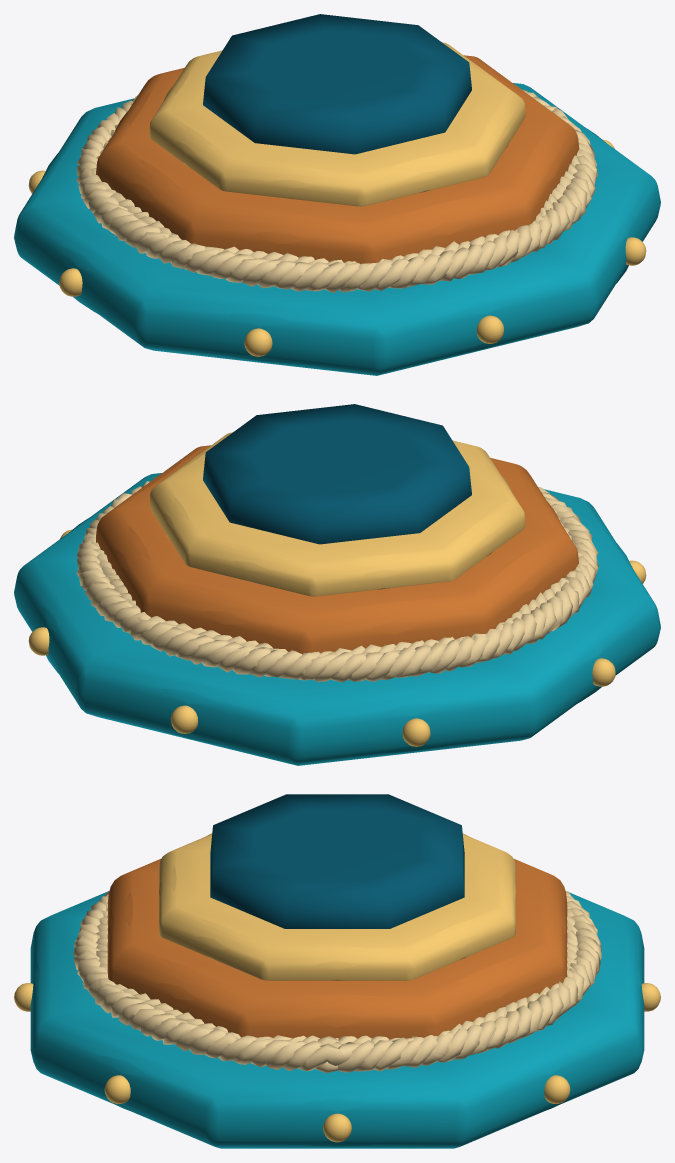
Rendered from ayak2.glb.
The picture shows the model from 3 angles, top to bottom: view 1: azimuth 30°, elevation 25°; view 2: azimuth 150°, elevation 25°; view 3: azimuth 270°, elevation 25°; orthographic projection.
Visible parts, largest first — view 1: kaide.001, basamak.001, boyun.001, altin_basamak.001, taban_halat0, taban_halat2, taban_halat1, boyun, basamak, altin_basamak, kaide, taban_halat1.001 (+5 smaller); view 2: kaide.001, basamak.001, boyun.001, altin_basamak.001, taban_halat0, taban_halat2, taban_halat1, boyun, basamak, altin_basamak, kaide, taban_halat1.001 (+5 smaller); view 3: kaide.001, basamak.001, boyun.001, altin_basamak.001, taban_halat0, taban_halat2, taban_halat1, basamak, altin_basamak, kaide, boyun, taban_halat0.001 (+5 smaller).
Boxes of the visible parts, x1,y1,x2,y2 form: kaide.001: (14, 83, 660, 375); basamak.001: (95, 55, 579, 264); boyun.001: (203, 14, 471, 154); altin_basamak.001: (149, 42, 525, 206); taban_halat0: (76, 89, 597, 292); taban_halat2: (76, 96, 596, 292); taban_halat1: (77, 92, 597, 291); boyun: (255, 33, 418, 102); basamak: (115, 72, 559, 244); altin_basamak: (163, 56, 511, 199); kaide: (42, 128, 632, 363); taban_halat1.001: (96, 96, 580, 287); kaide.001: (14, 473, 660, 765); basamak.001: (96, 445, 578, 653); boyun.001: (203, 404, 471, 544); altin_basamak.001: (149, 432, 525, 596); taban_halat0: (76, 477, 598, 681); taban_halat2: (76, 481, 598, 681); taban_halat1: (77, 486, 598, 682); boyun: (263, 423, 419, 492); basamak: (115, 462, 559, 634); altin_basamak: (163, 446, 511, 589); kaide: (42, 518, 632, 753); taban_halat1.001: (88, 503, 595, 668); kaide.001: (30, 891, 644, 1148); basamak.001: (107, 859, 567, 1039); boyun.001: (210, 794, 464, 928); altin_basamak.001: (159, 835, 515, 980); taban_halat0: (73, 891, 601, 1071); taban_halat2: (73, 896, 601, 1072); taban_halat1: (73, 898, 601, 1071); basamak: (108, 891, 566, 1033); altin_basamak: (159, 833, 515, 980); kaide: (33, 962, 641, 1147); boyun: (255, 806, 418, 914); taban_halat0.001: (96, 909, 580, 1058).
Size of the model in its own units: 3.12 by 1.34 by 3.12.
